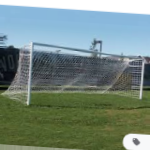goals: (2, 40, 145, 107)
